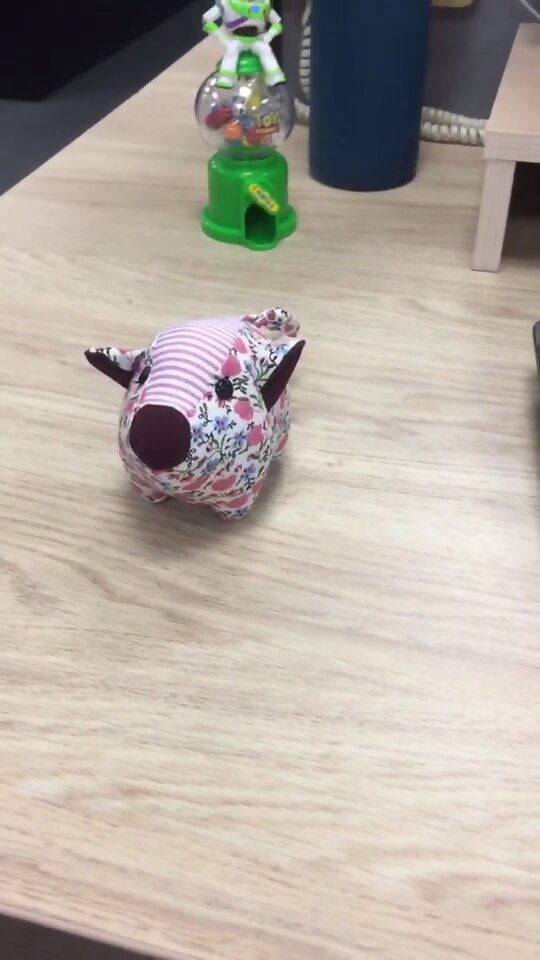pig: (77, 304, 313, 526)
